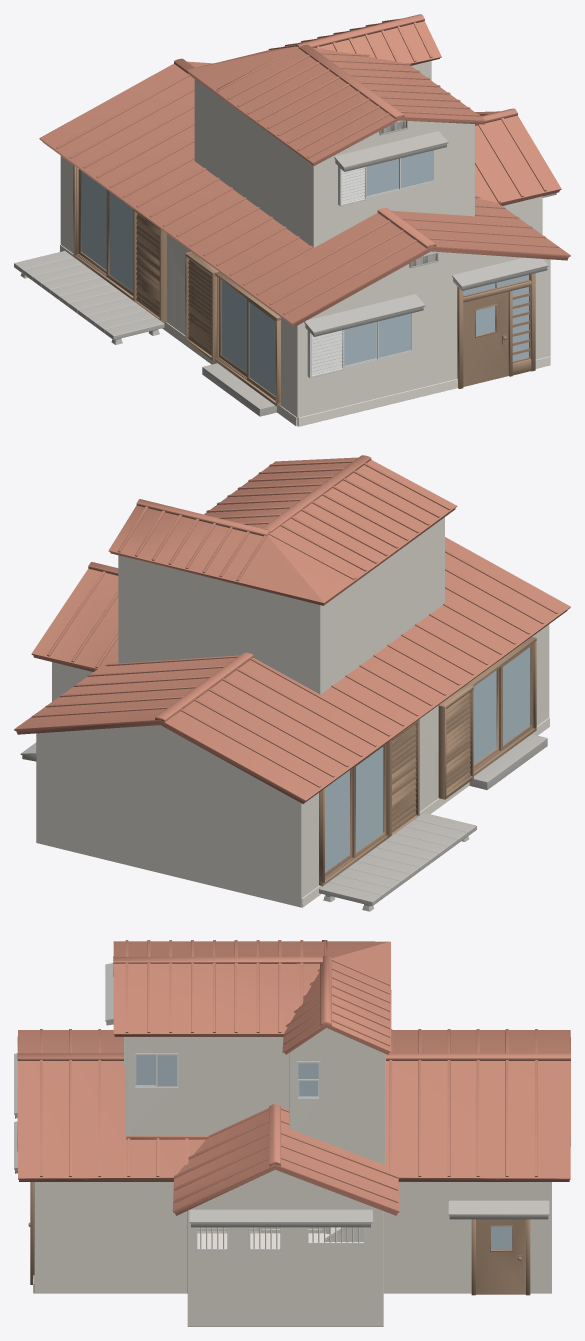
Rendered from house_japanese.glb.
The picture shows the model from 3 angles, top to bottom: view 1: azimuth 30°, elevation 25°; view 2: azimuth 150°, elevation 25°; view 3: azimuth 270°, elevation 25°; orthographic projection. The views are drawn at different scales.
Size of the model in its own units: 16.65 by 10.31 by 18.9.
